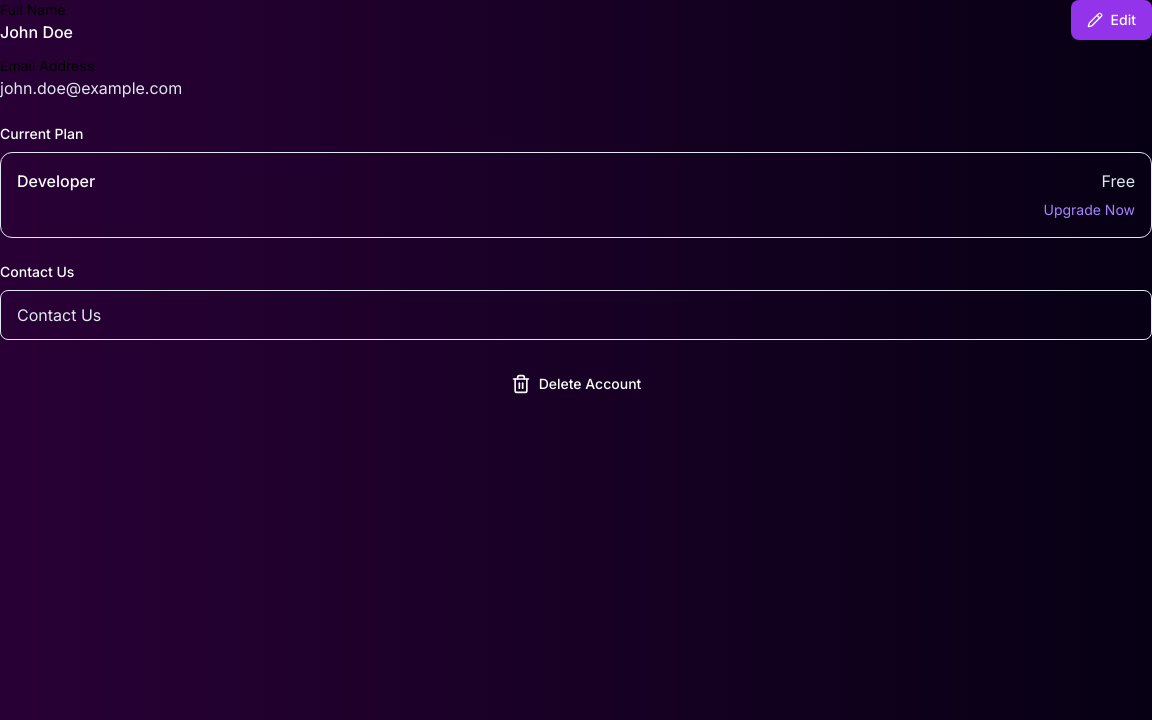
Test: ProfileSettings Component › should close delete account modal when Cancel is clicked
Click the button "Delete Account": (576, 384) [0, 364, 1151, 404]
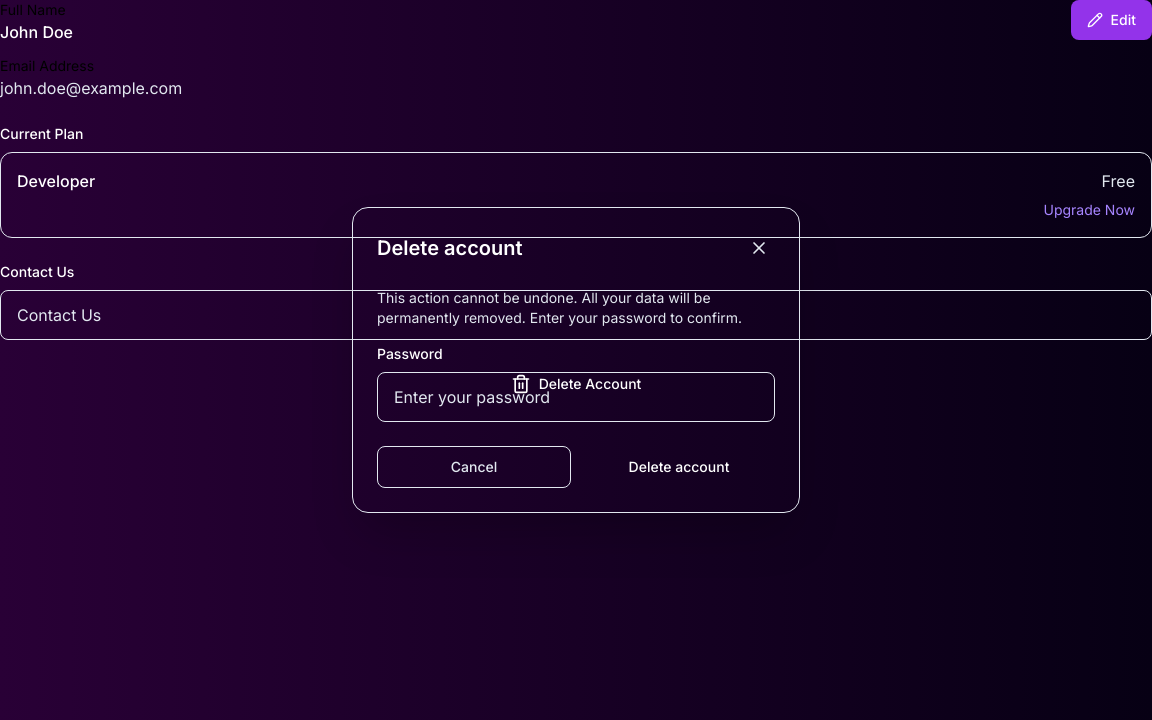
Expected: the dialog is shown, [352, 207, 800, 513]
Click the button "Cancel": (474, 467) [377, 446, 571, 488]
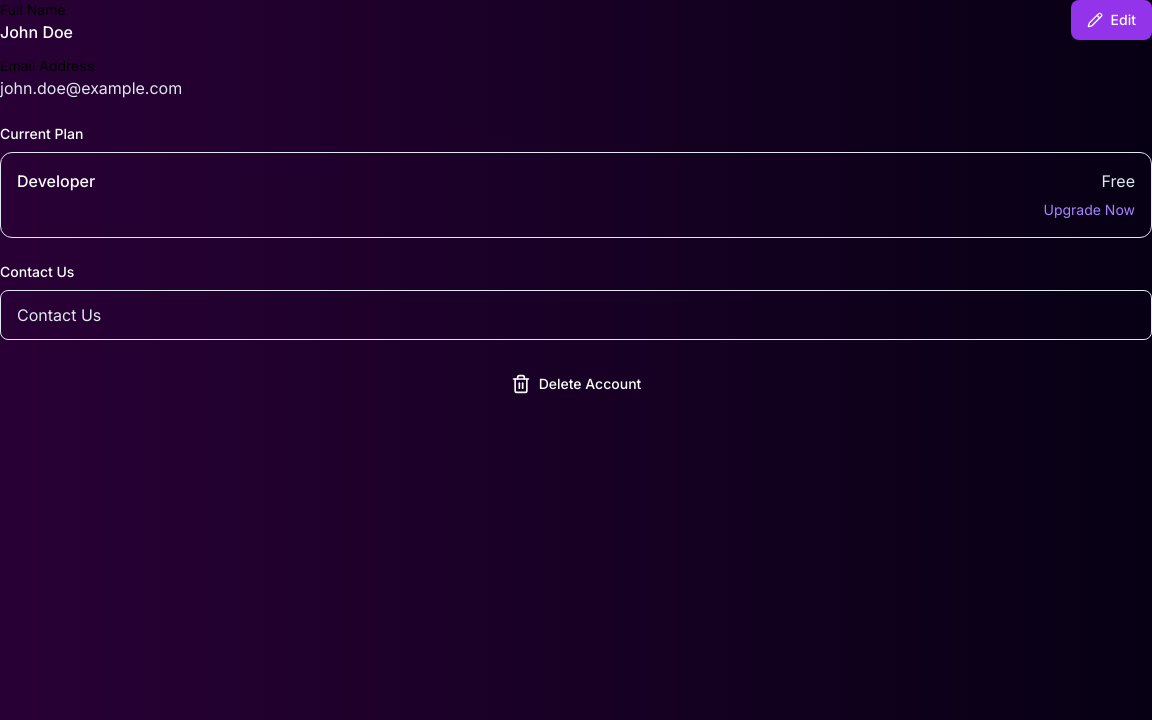
Expected: the dialog is gone
